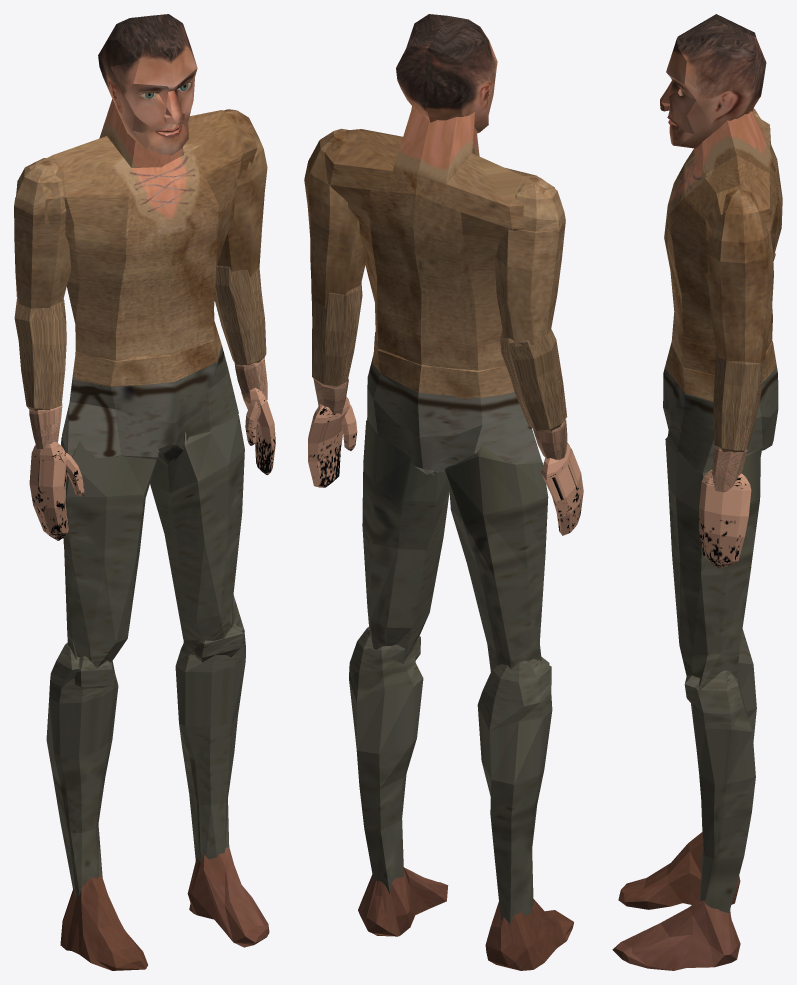
The model's file is Leaph.fbx.
The picture shows the model from 3 angles, left to right: view 1: azimuth 30°, elevation 25°; view 2: azimuth 150°, elevation 25°; view 3: azimuth 270°, elevation 25°; orthographic projection. The views are drawn at different scales.
Visible parts, largest first — view 1: torso, upper_rightleg, waist, upper_leftleg, lower_leftleg, lower_rightleg, head, upper_leftarm, wrist_leftarm1, lower_rightarm1, foot_leftleg, foot_rightleg (+3 smaller); view 2: torso, upper_leftleg, upper_rightleg, waist, lower_leftleg, lower_rightleg, head, upper_leftarm, upper_rightarm, wrist_leftarm1, lower_rightarm1, foot_leftleg (+3 smaller); view 3: torso, upper_rightleg, lower_rightleg, head, upper_rightarm, waist, foot_rightleg, lower_rightarm1, hand_rightarm1, foot_leftleg, lower_leftleg.
Boxes of the visible parts, x1=… form: torso: x1=28, y1=99, x2=257, y2=361; upper_rightleg: x1=150, y1=414, x2=244, y2=662; waist: x1=62, y1=321, x2=238, y2=463; upper_leftleg: x1=61, y1=436, x2=159, y2=688; lower_leftleg: x1=46, y1=642, x2=118, y2=899; lower_rightleg: x1=175, y1=626, x2=245, y2=863; head: x1=98, y1=14, x2=197, y2=155; upper_leftarm: x1=14, y1=158, x2=71, y2=308; wrist_leftarm1: x1=14, y1=296, x2=66, y2=449; lower_rightarm1: x1=214, y1=265, x2=267, y2=399; foot_leftleg: x1=60, y1=876, x2=147, y2=970; foot_rightleg: x1=187, y1=847, x2=269, y2=947; torso: x1=324, y1=106, x2=554, y2=390; upper_leftleg: x1=445, y1=445, x2=549, y2=671; upper_rightleg: x1=362, y1=419, x2=449, y2=663; waist: x1=367, y1=332, x2=541, y2=476; lower_leftleg: x1=477, y1=659, x2=552, y2=923; lower_rightleg: x1=349, y1=627, x2=423, y2=894; head: x1=396, y1=14, x2=497, y2=133; upper_leftarm: x1=494, y1=176, x2=565, y2=346; upper_rightarm: x1=304, y1=128, x2=365, y2=307; wrist_leftarm1: x1=500, y1=329, x2=567, y2=459; lower_rightarm1: x1=311, y1=282, x2=362, y2=414; foot_leftleg: x1=485, y1=899, x2=573, y2=970; torso: x1=664, y1=111, x2=782, y2=375; upper_rightleg: x1=665, y1=437, x2=760, y2=704; lower_rightleg: x1=691, y1=670, x2=755, y2=913; head: x1=660, y1=14, x2=766, y2=148; upper_rightarm: x1=707, y1=189, x2=773, y2=363; waist: x1=663, y1=340, x2=778, y2=473; foot_rightleg: x1=612, y1=899, x2=740, y2=970; lower_rightarm1: x1=712, y1=352, x2=764, y2=492; hand_rightarm1: x1=699, y1=470, x2=751, y2=568; foot_leftleg: x1=618, y1=832, x2=740, y2=909; lower_leftleg: x1=737, y1=629, x2=756, y2=742.
Size of the model in its own units: 2.81 by 9.83 by 1.66.
Materials: 1 (1 with a texture image).
